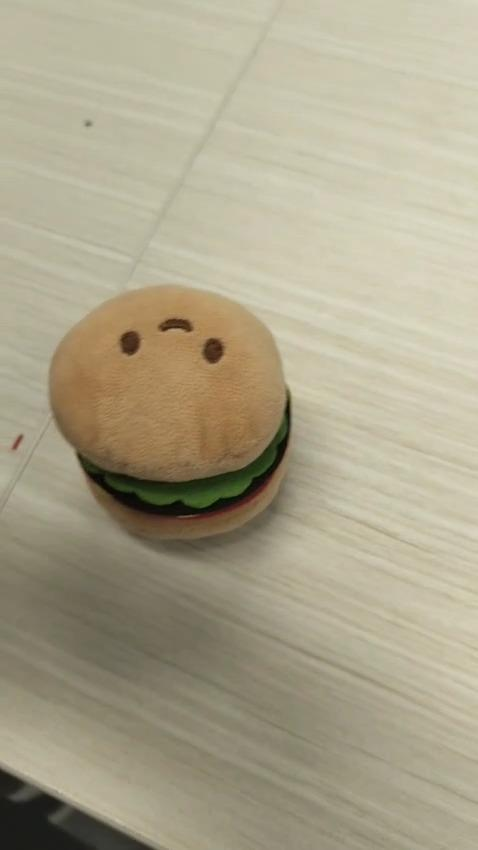hamburger: (47, 282, 293, 542)
